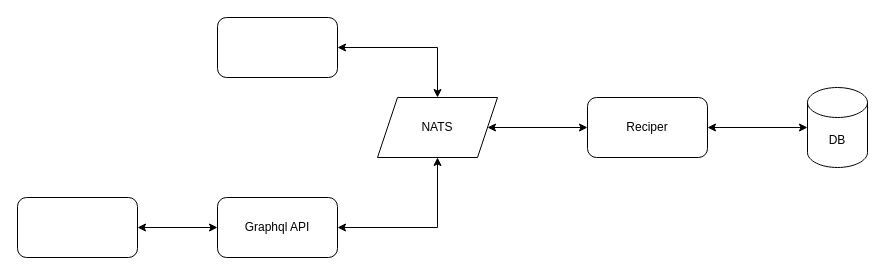
The diagram is 885 pixels wide and 275 high, and some of its shapes have lost their labels. The box of each missing label's shape, as (x1, y1, x2, y2) in pixels:
Mobile app: (16, 196, 138, 258)
website: (216, 16, 338, 78)
